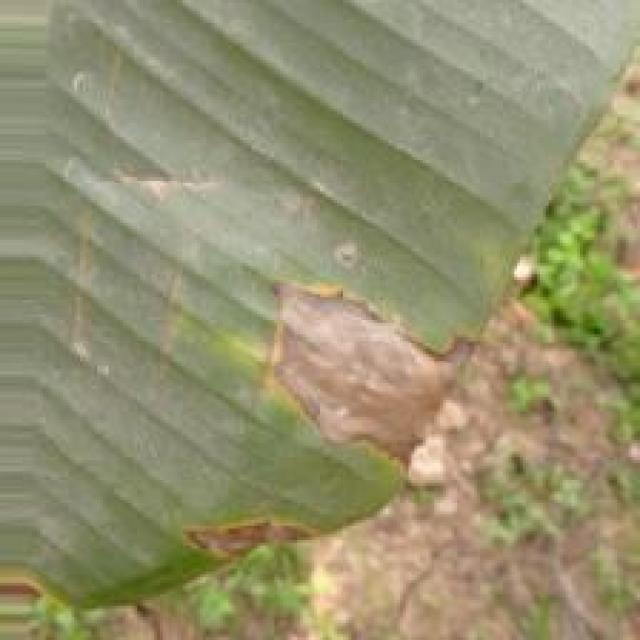Bacterial_spot: (258, 267, 485, 484), (176, 499, 332, 577), (0, 570, 67, 622), (319, 238, 373, 274)
